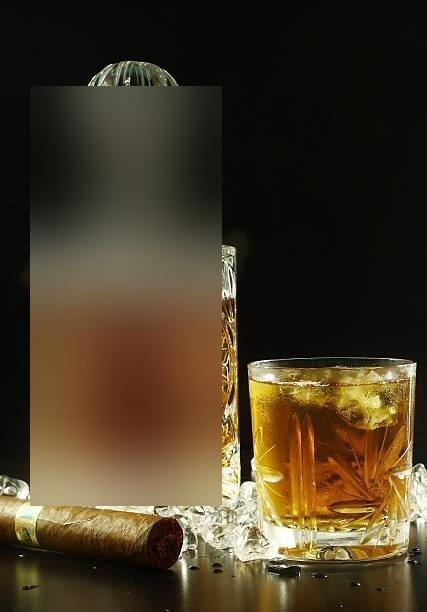glass-normal: (245, 353, 419, 564)
